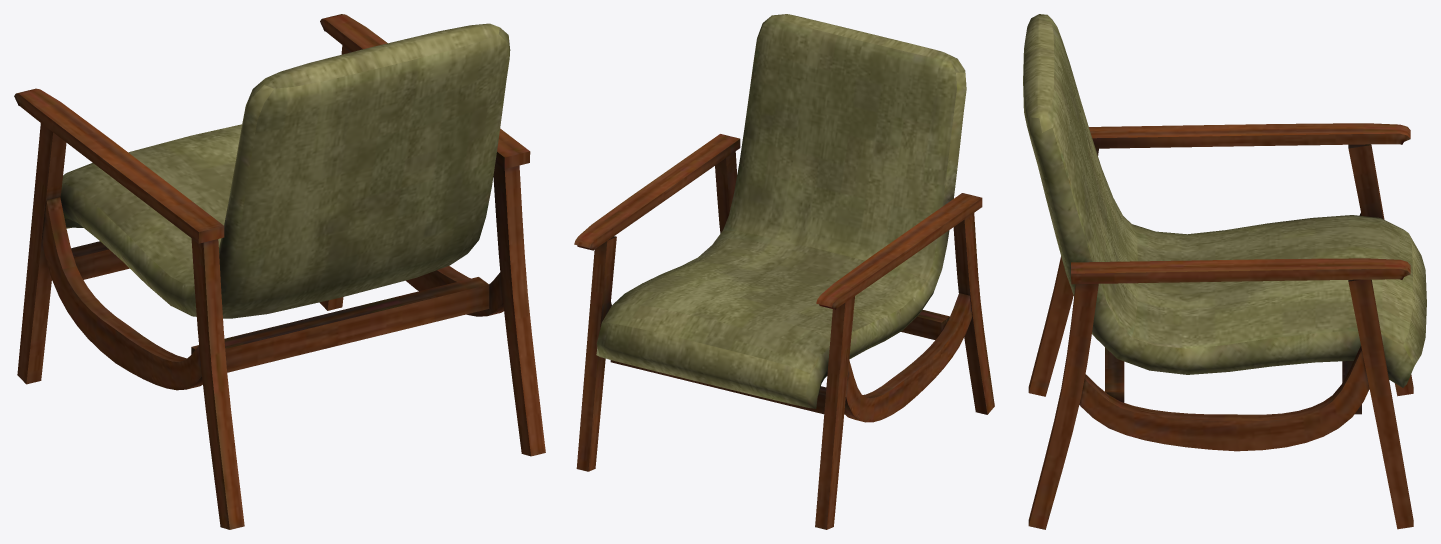
Rendered from armchair_shell_lod1_web.glb.
The picture shows the model from 3 angles, left to right: view 1: azimuth 30°, elevation 25°; view 2: azimuth 150°, elevation 25°; view 3: azimuth 270°, elevation 25°; orthographic projection. The views are drawn at different scales.
Parts seen in each view (by area): view 1: ArmchairShell_Body; view 2: ArmchairShell_Body; view 3: ArmchairShell_Body.
Part boxes in pixels (x1,y1,x2,y2): ArmchairShell_Body: (14,14,545,529); ArmchairShell_Body: (574,14,994,529); ArmchairShell_Body: (1023,14,1426,529).
Bounding box in the file's own units: 0.715 × 0.9103 × 0.8338.
Materials: 1 (1 with a texture image).
